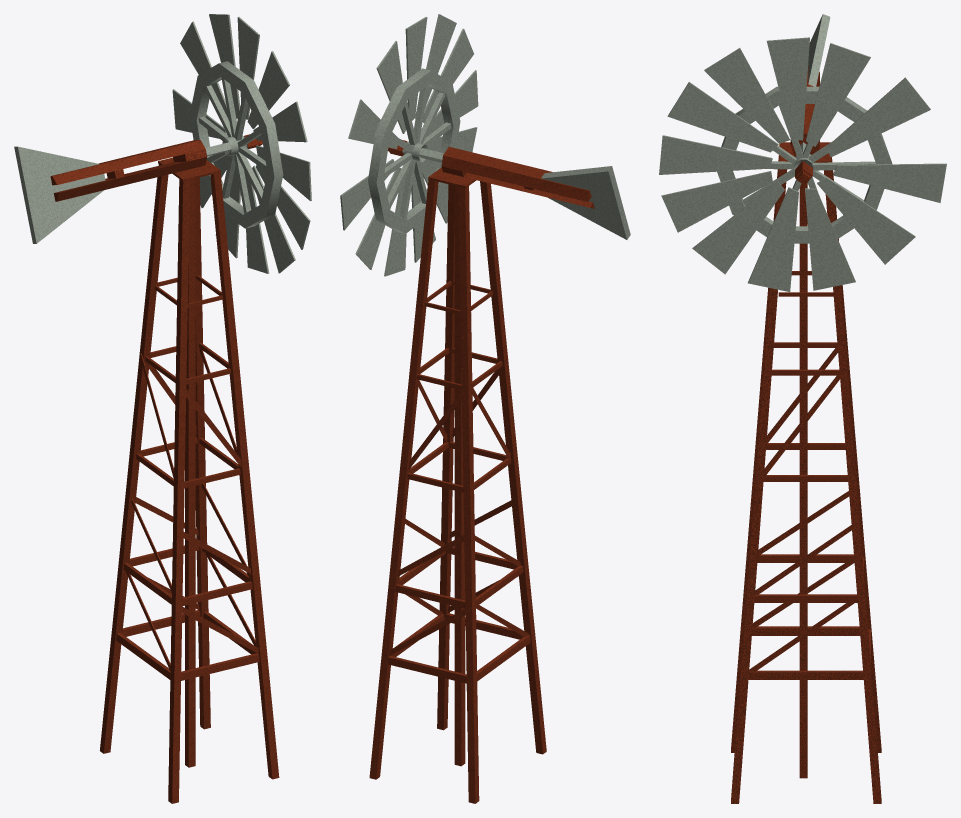
Rendered from windmill 2.fbx.
The picture shows the model from 3 angles, left to right: view 1: azimuth 30°, elevation 25°; view 2: azimuth 150°, elevation 25°; view 3: azimuth 270°, elevation 25°; orthographic projection. The views are drawn at different scales.
Visible parts, largest first — view 1: body, fan; view 2: body, fan; view 3: fan, body.
Part boxes in pixels (x1,y1,x2,y2): body: (100, 157, 279, 803); fan: (14, 14, 311, 273); body: (369, 167, 546, 803); fan: (340, 14, 630, 276); fan: (659, 14, 946, 291); body: (731, 142, 881, 803).
Size of the model in its own units: 800 by 2361 by 806.
